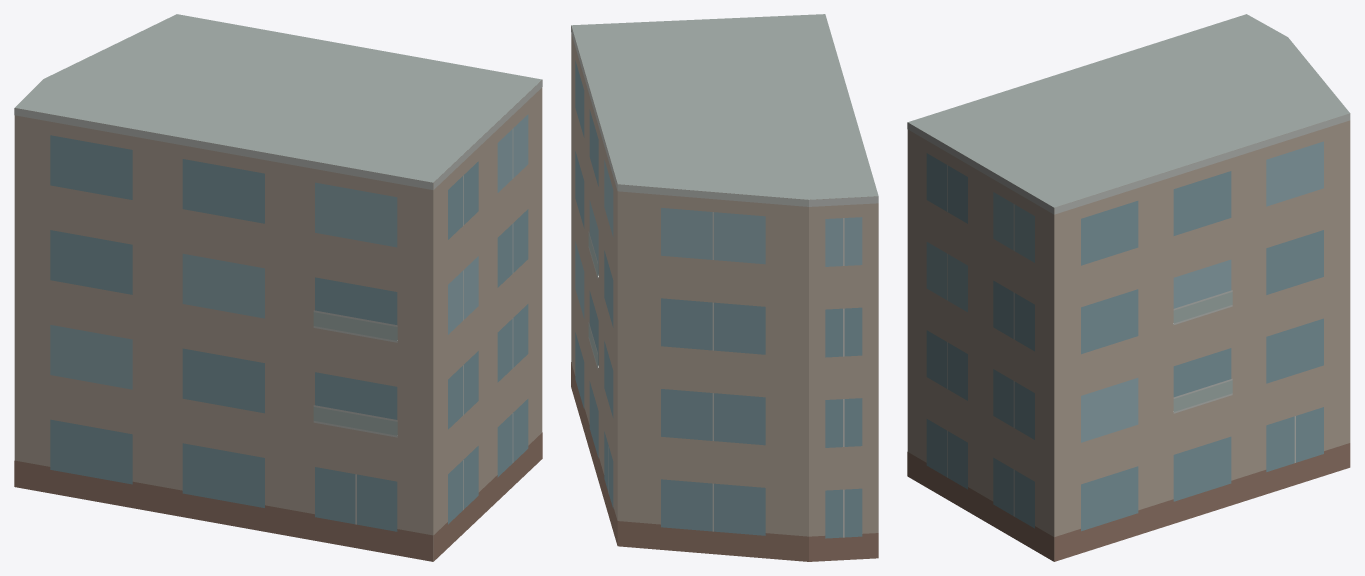
The model's file is survey-upis-32997531.glb.
3 renders of one model, left to right at view 1: azimuth 30°, elevation 25°; view 2: azimuth 150°, elevation 25°; view 3: azimuth 270°, elevation 25°, orthographic. The views are drawn at different scales.
Visible parts, largest first — view 1: survey-upis-32997531.tmp; view 2: survey-upis-32997531.tmp; view 3: survey-upis-32997531.tmp.
Boxes of the visible parts, x1,y1,x2,y2 form: survey-upis-32997531.tmp: (14, 14, 542, 561); survey-upis-32997531.tmp: (571, 14, 878, 561); survey-upis-32997531.tmp: (907, 14, 1350, 561).
Bounding box in the file's own units: 14.49 × 12.35 × 14.
